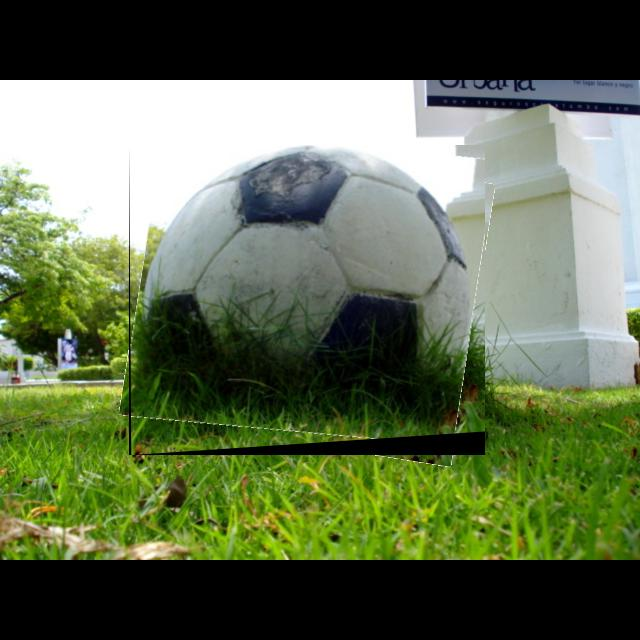Football: (129, 145, 485, 455)
